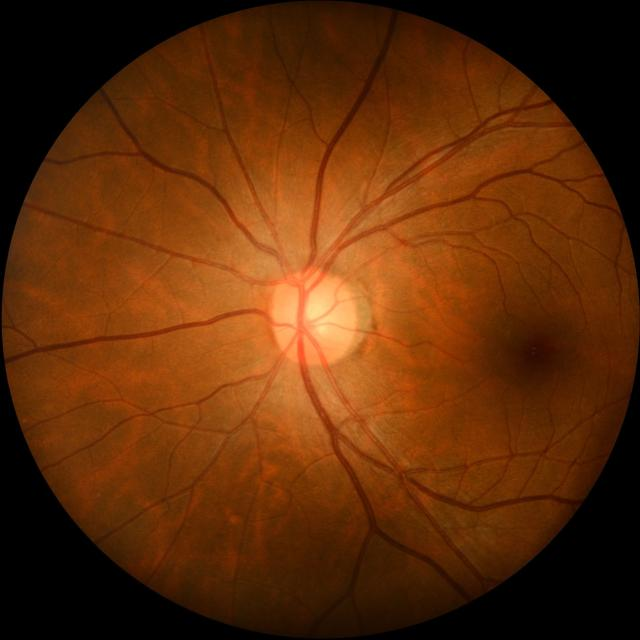OC: (298, 295, 334, 335)
OD: (270, 270, 356, 364)
